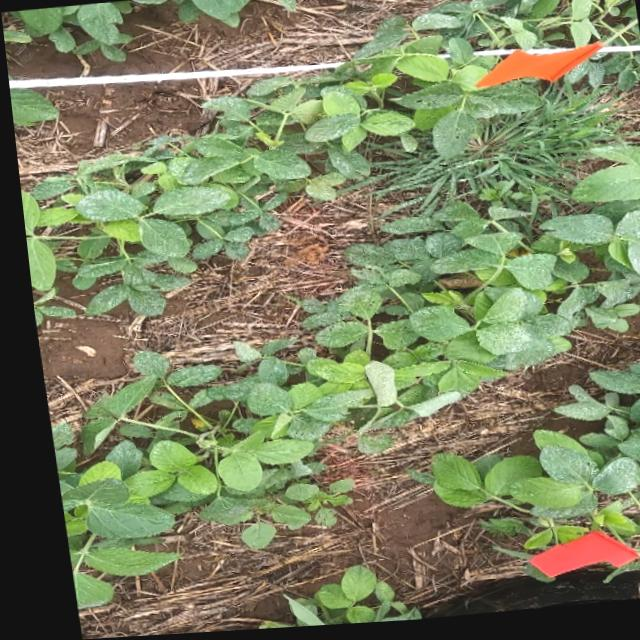grassy_weed: (355, 101, 619, 225)
soy_plant: (41, 151, 640, 605), (17, 40, 537, 314), (401, 368, 640, 556), (10, 0, 251, 60), (410, 0, 637, 55), (247, 567, 406, 631), (567, 60, 640, 95), (276, 0, 294, 13)
